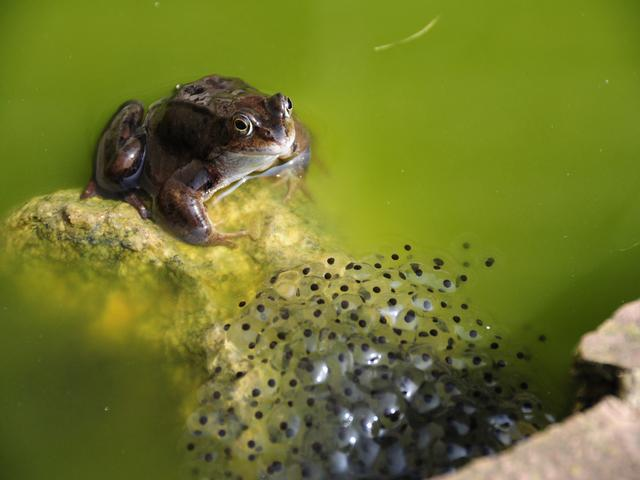frog: (46, 32, 339, 240)
